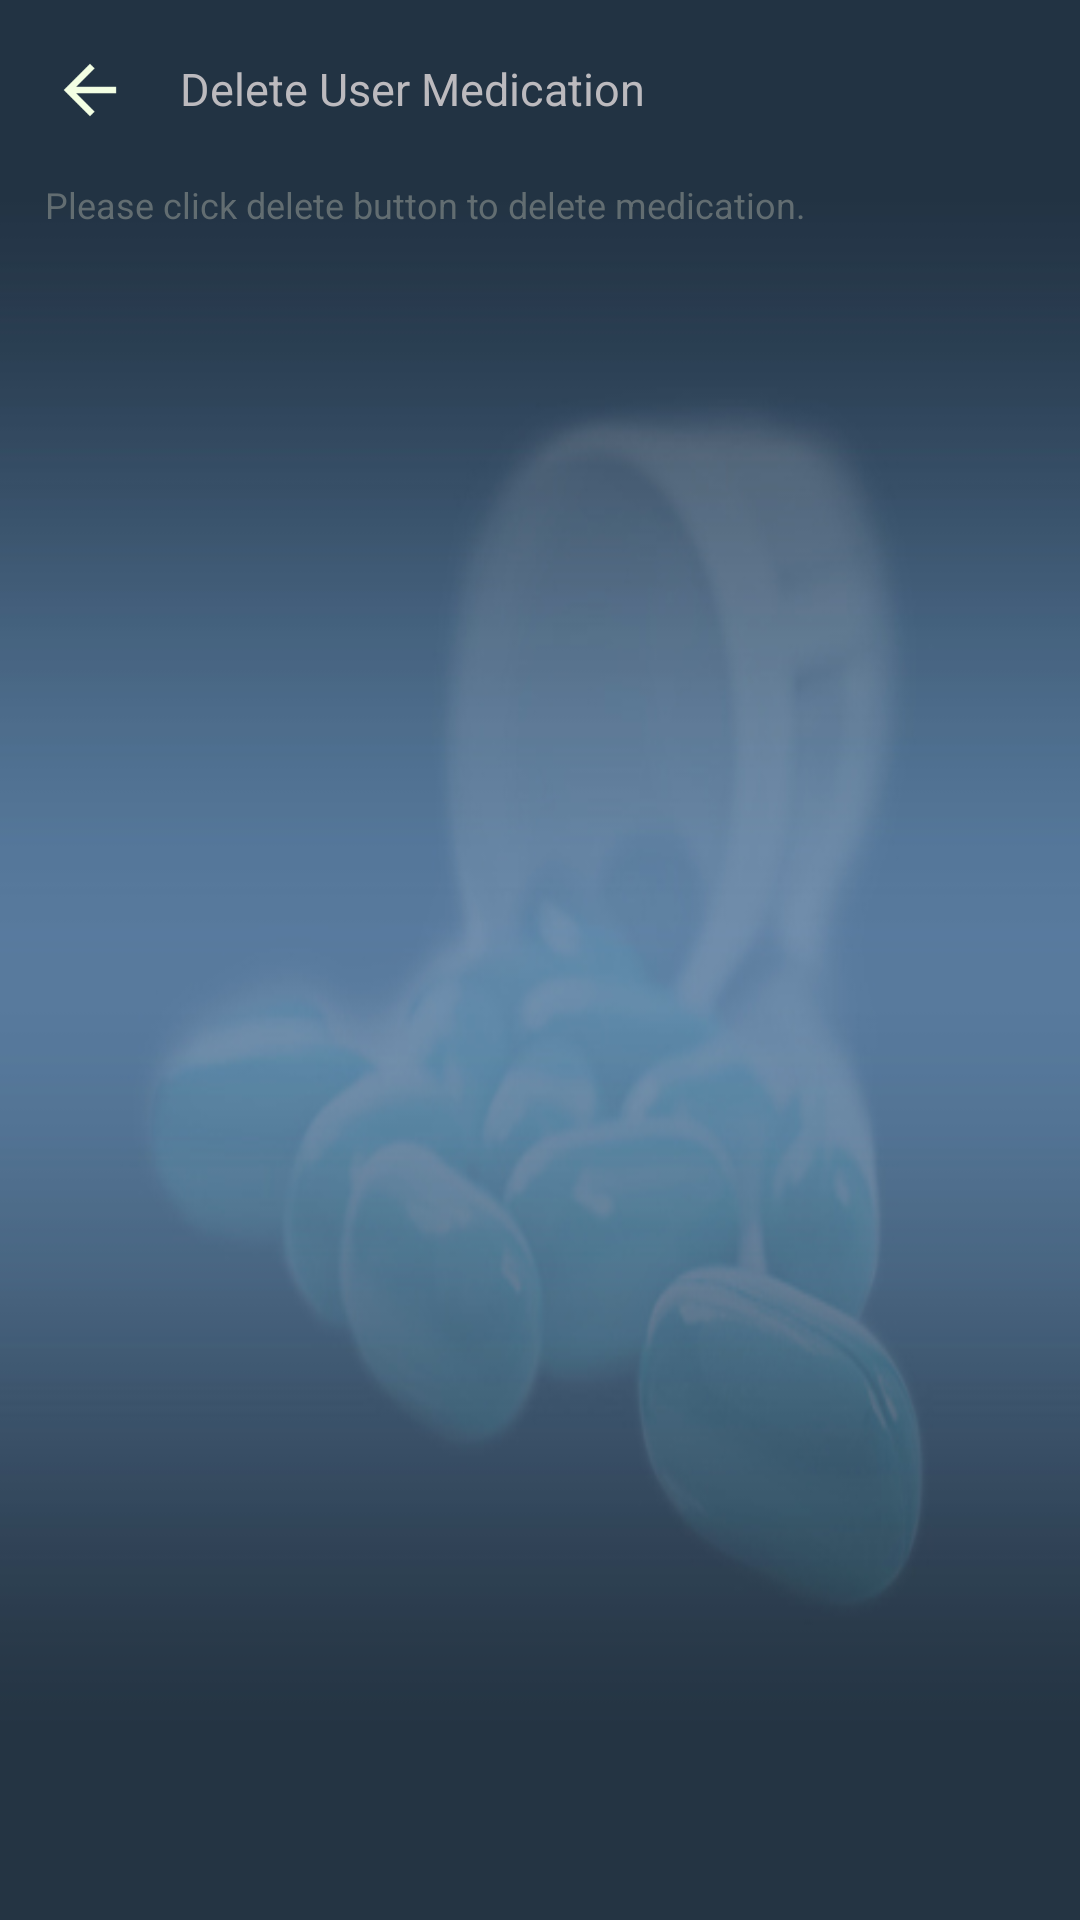

Screen size 1080px×1920px. Icon name, then its box in pixels as {"x1": x1, "y1": y1, "x2": x2, "y2": y2}:
arrow back: {"x1": 64, "y1": 64, "x2": 117, "y2": 116}
